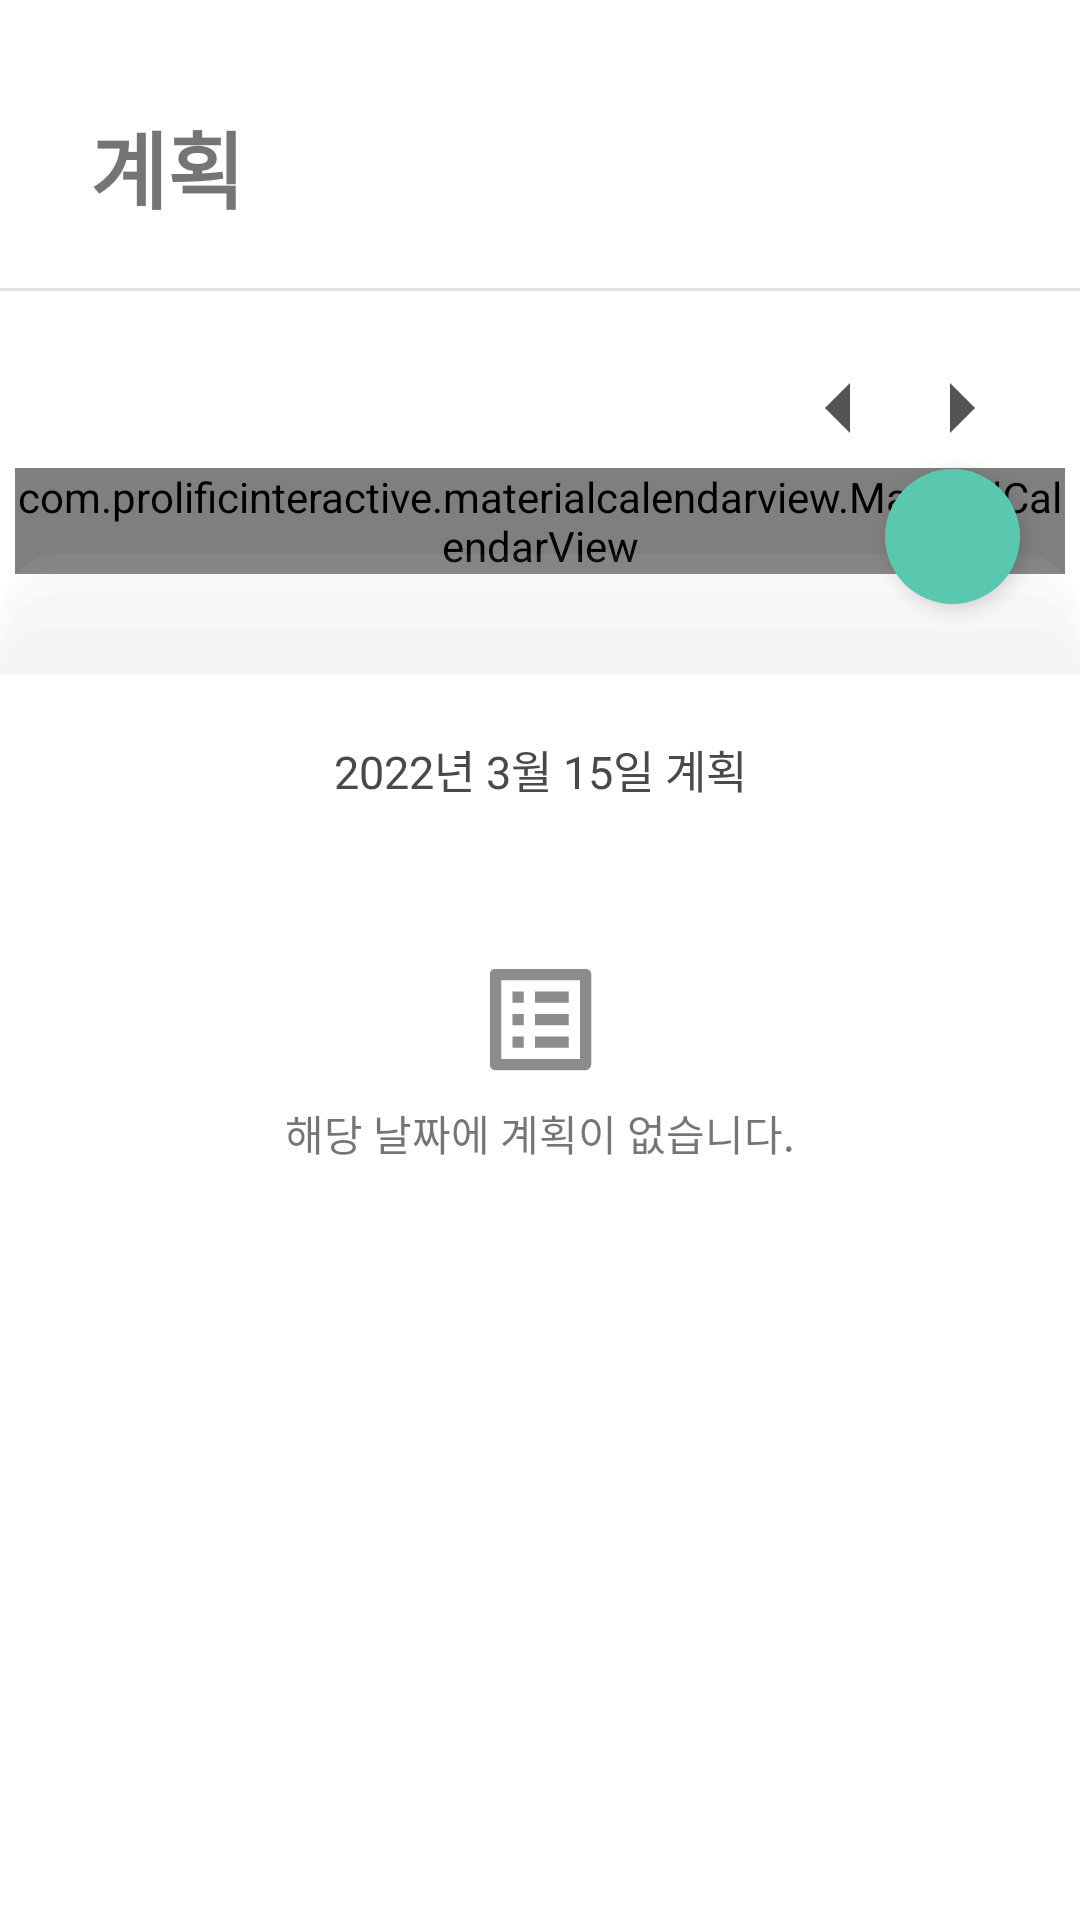

Icon click points for this 1080px x 1920px phone screenshot, format [x,y]:
arrow left: [837,408]
arrow right: [962,408]
list: [541,1020]
